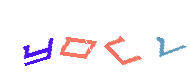O: (55, 0, 135, 80)
U: (55, 0, 135, 80)
V: (109, 0, 189, 80)
Y: (0, 0, 80, 80)
